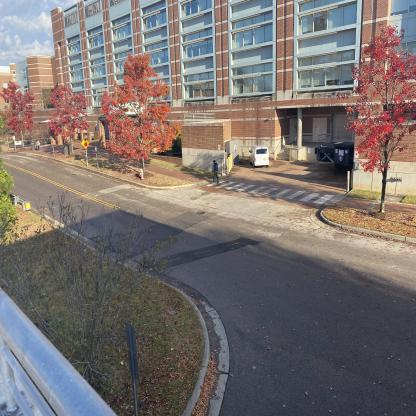EB-1: (46, 0, 415, 222)
